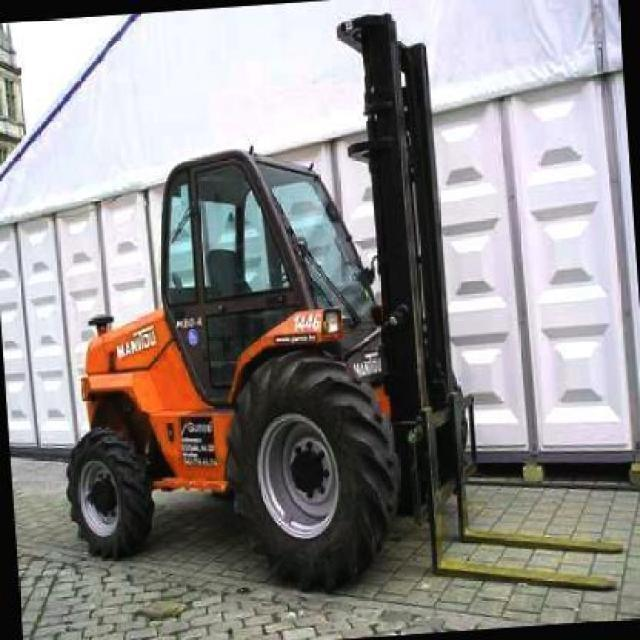forklift: (47, 12, 630, 599)
